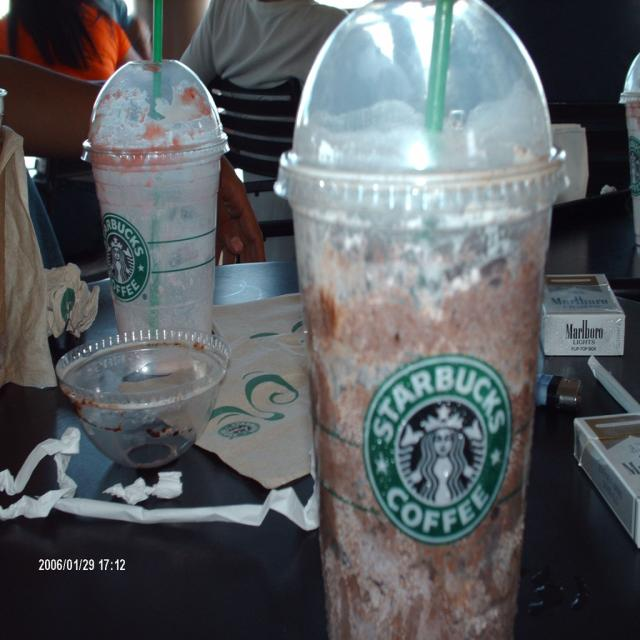starbucks: (365, 353, 515, 547), (102, 214, 151, 302)
